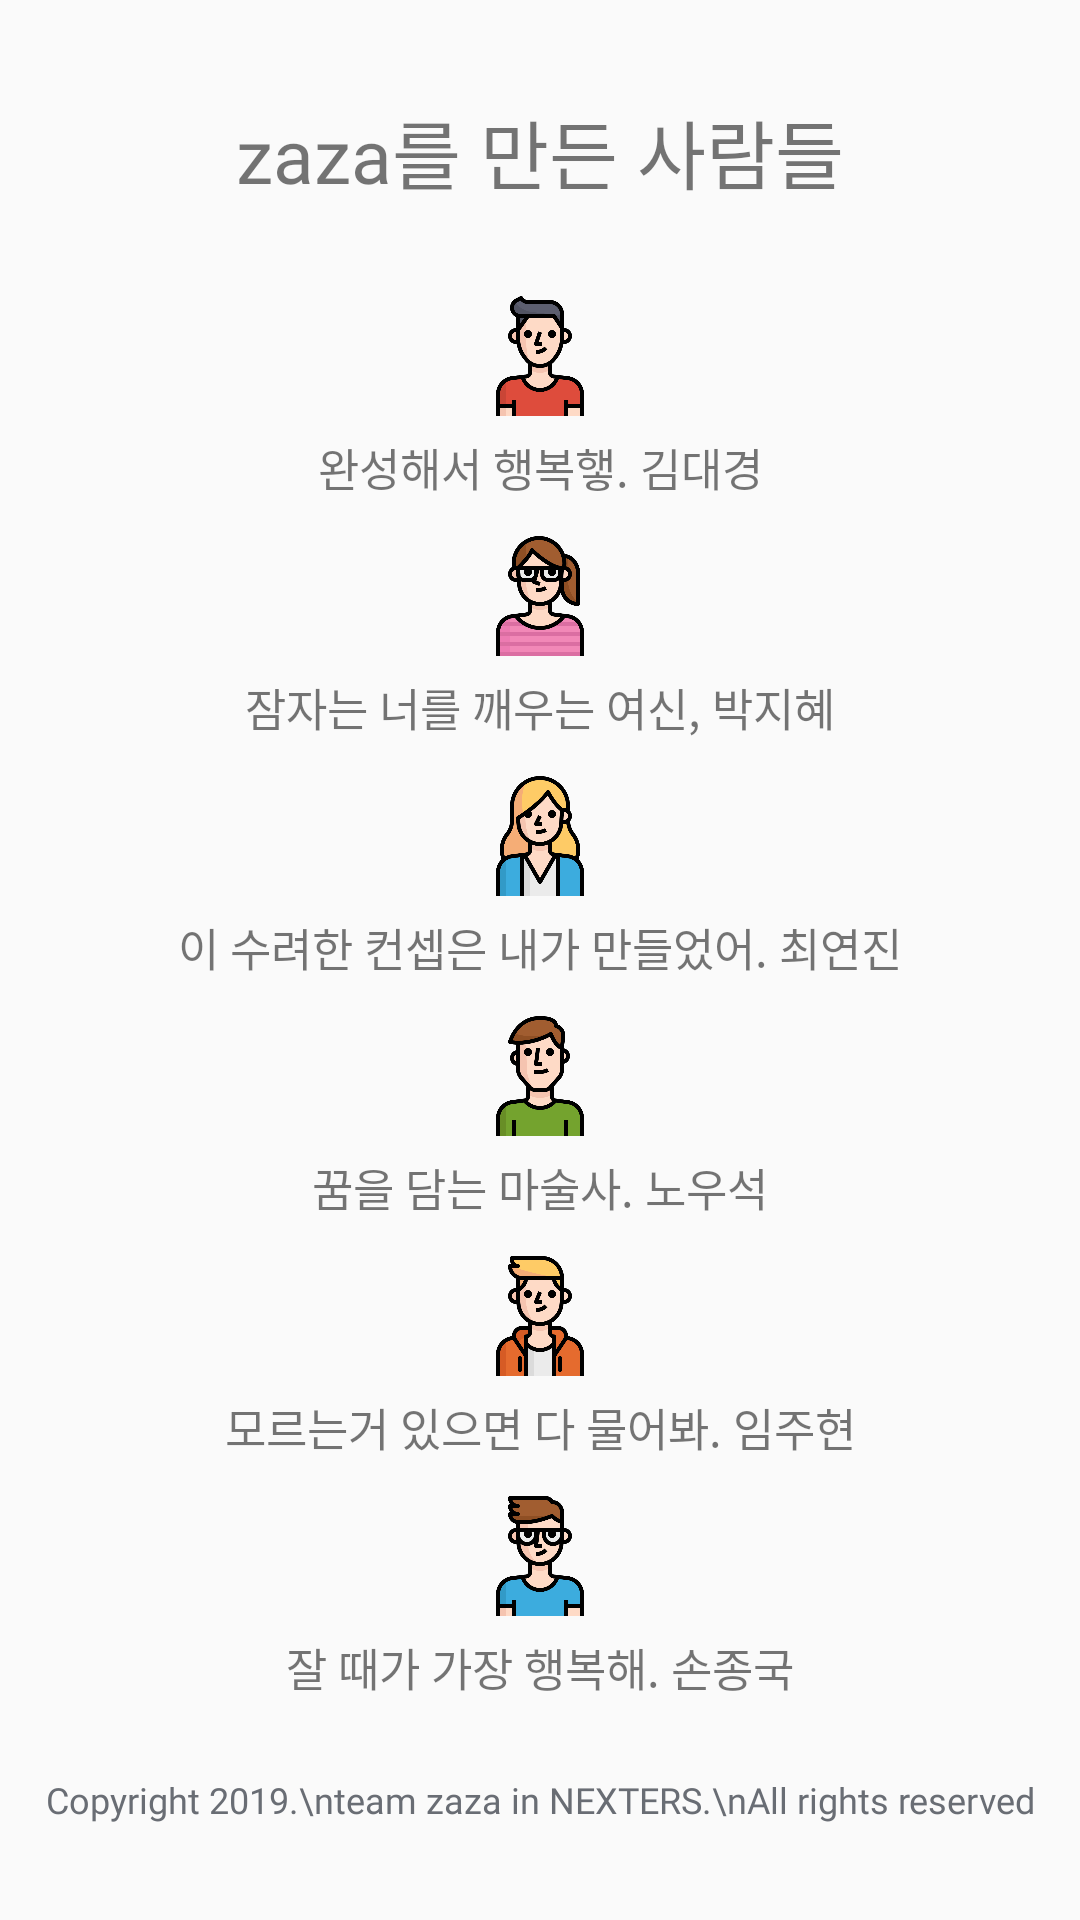

Icon bounding boxes for this 1080*1920 phone screenshot, format (x1, y1, x2, y2):
boy: (496, 1016, 584, 1136), (496, 1256, 584, 1376), (496, 1496, 584, 1616)
man: (496, 296, 584, 416)
woman: (496, 536, 584, 656), (496, 776, 584, 896)
